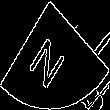N_NE: (32, 23, 78, 87)
